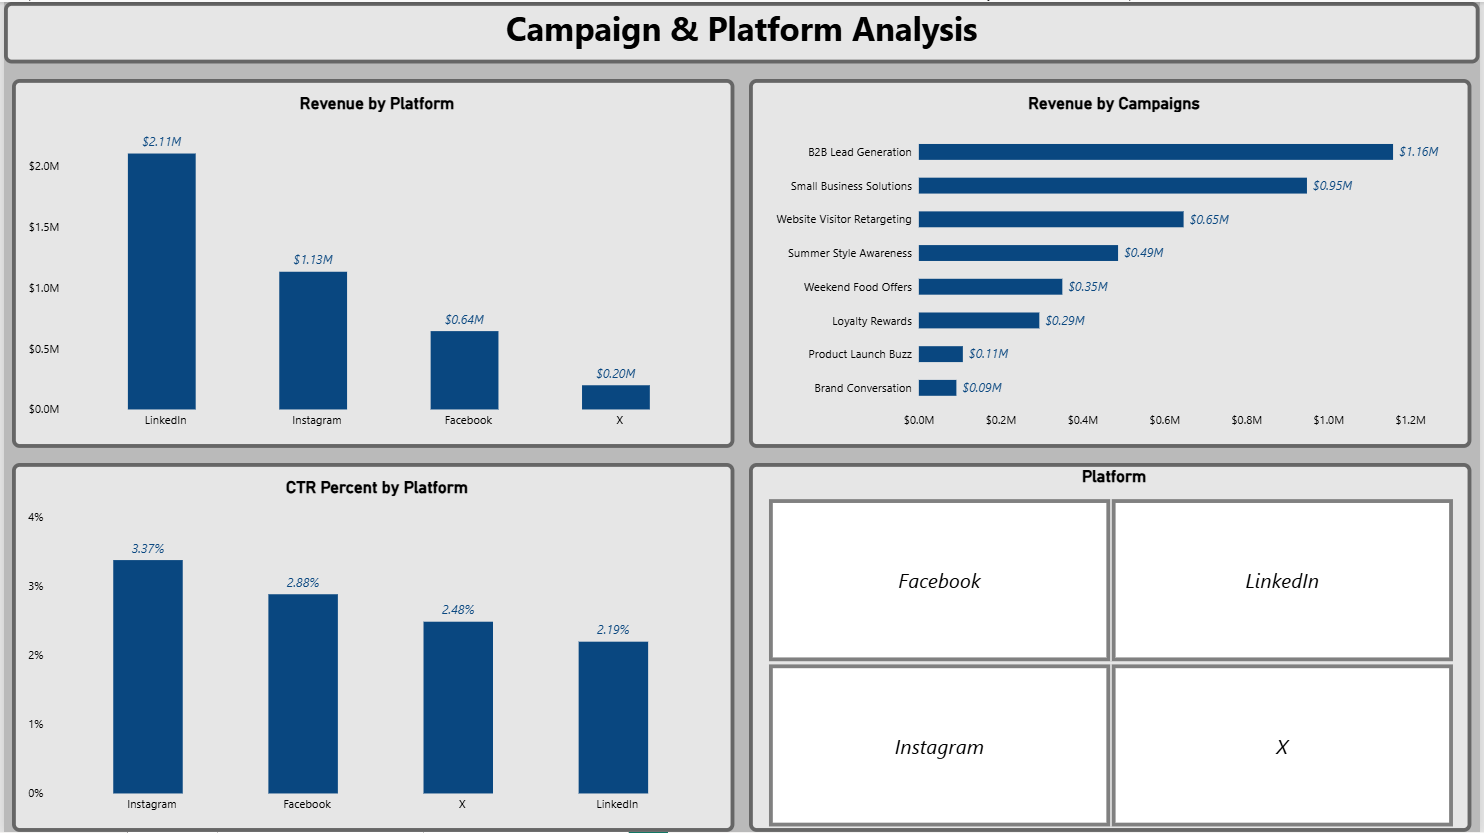

The page's visual inventory and layout, read from the dashboard file:
{"tool":"powerbi","page":{"name":"Campaign & platform Analysis","canvas":[1920,1080],"ordinal":1},"visuals":[{"type":"textbox","box":[0,0,1920,80],"z":0},{"type":"clusteredColumnChart","title":"Revenue by Platform","fields":{"Category":["social_media_analytics campaigns.platform"],"Y":["social_media_analytics anomaly_results.Total Revenue"]},"box":[10,100,940,480],"z":1000},{"type":"clusteredBarChart","title":"Revenue by Campaigns","fields":{"Category":["social_media_analytics campaigns.campaign_name"],"Y":["social_media_analytics anomaly_results.Total Revenue"]},"box":[970,100,940,480],"z":2000},{"type":"clusteredColumnChart","title":"CTR Percent by Platform","fields":{"Category":["social_media_analytics campaigns.platform"],"Y":["social_media_analytics anomaly_results.CTR %"]},"box":[10.4,600,940,480],"z":3000},{"type":"slicer","title":"Platform","fields":{"Values":["social_media_analytics campaigns.platform"]},"box":[970,600,940,480],"z":4000}]}

Visuals, with their boxes in screenshot pixels (x1, y1, x2, y2), scaled from the page's 1920x1080 canvas onto the 1484x833 screenshot:
textbox: {"x1": 0, "y1": 0, "x2": 1483, "y2": 62}
"Revenue by Platform" clusteredColumnChart: {"x1": 8, "y1": 77, "x2": 734, "y2": 447}
"Revenue by Campaigns" clusteredBarChart: {"x1": 750, "y1": 77, "x2": 1476, "y2": 447}
"CTR Percent by Platform" clusteredColumnChart: {"x1": 8, "y1": 463, "x2": 735, "y2": 832}
"Platform" slicer: {"x1": 750, "y1": 463, "x2": 1476, "y2": 832}
